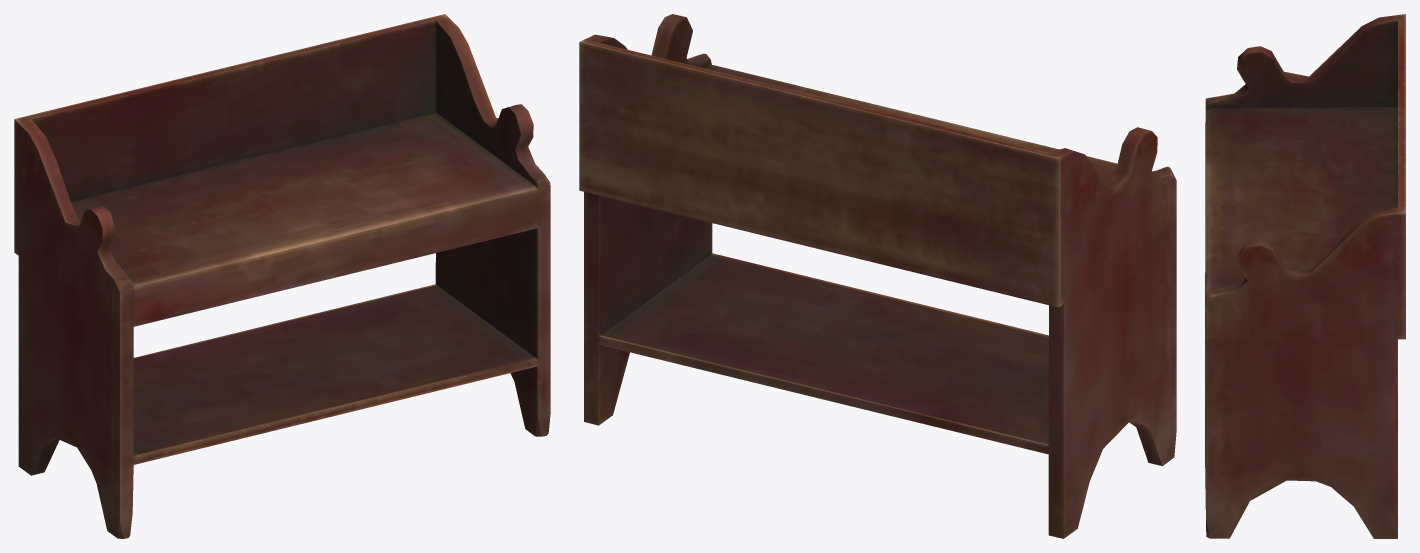
File: bench.glb
The picture shows the model from 3 angles, left to right: view 1: azimuth 30°, elevation 25°; view 2: azimuth 150°, elevation 25°; view 3: azimuth 270°, elevation 25°; orthographic projection. The views are drawn at different scales.
Parts seen in each view (by area): view 1: painted_wooden_bench; view 2: painted_wooden_bench; view 3: painted_wooden_bench.
Boxes of the visible parts, left/top/right/bottom form: painted_wooden_bench: left=14, top=14, right=550, bottom=538; painted_wooden_bench: left=579, top=14, right=1176, bottom=538; painted_wooden_bench: left=1205, top=14, right=1405, bottom=538.
Bounding box in the file's own units: 1.16 × 0.8893 × 0.4965.
1 material, 1 textured.
